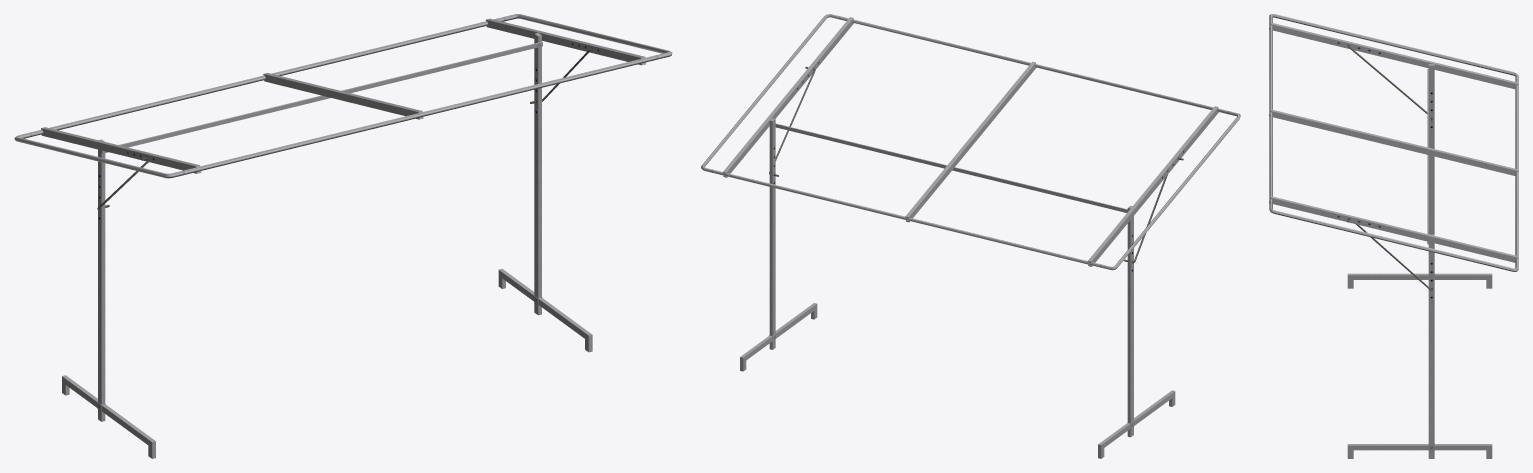
Rendered from jsf_2P_s04_Leg01.fbx.
The picture shows the model from 3 angles, left to right: view 1: azimuth 30°, elevation 25°; view 2: azimuth 150°, elevation 25°; view 3: azimuth 270°, elevation 25°; orthographic projection. The views are drawn at different scales.
Parts seen in each view (by area): view 1: jsf_2P_s04_Leg01; view 2: jsf_2P_s04_Leg01; view 3: jsf_2P_s04_Leg01.
Boxes of the visible parts, bbox=[...] form: jsf_2P_s04_Leg01: bbox=[14, 14, 672, 458]; jsf_2P_s04_Leg01: bbox=[701, 14, 1240, 458]; jsf_2P_s04_Leg01: bbox=[1269, 14, 1518, 458].
Bounding box in the file's own units: 394 × 244 × 210.
